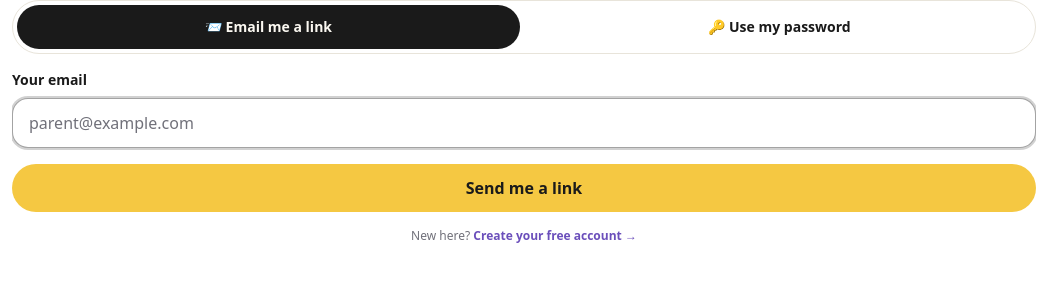
Scenario: SignInForm › shows an inline error if email is empty
The width and height of the screenshot is (1048, 302).
Step 1. Click the button "Send me a link" → point(524, 188), box x1=12 y1=164 x2=1036 y2=212
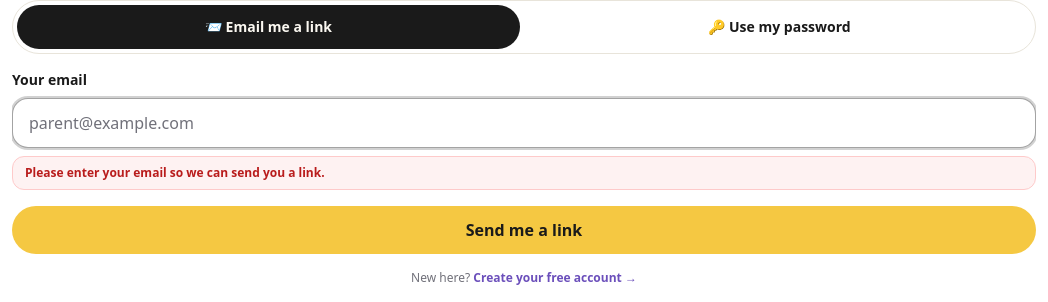
Result: the message shows "Please enter your email" at x1=25 y1=164 x2=325 y2=181
